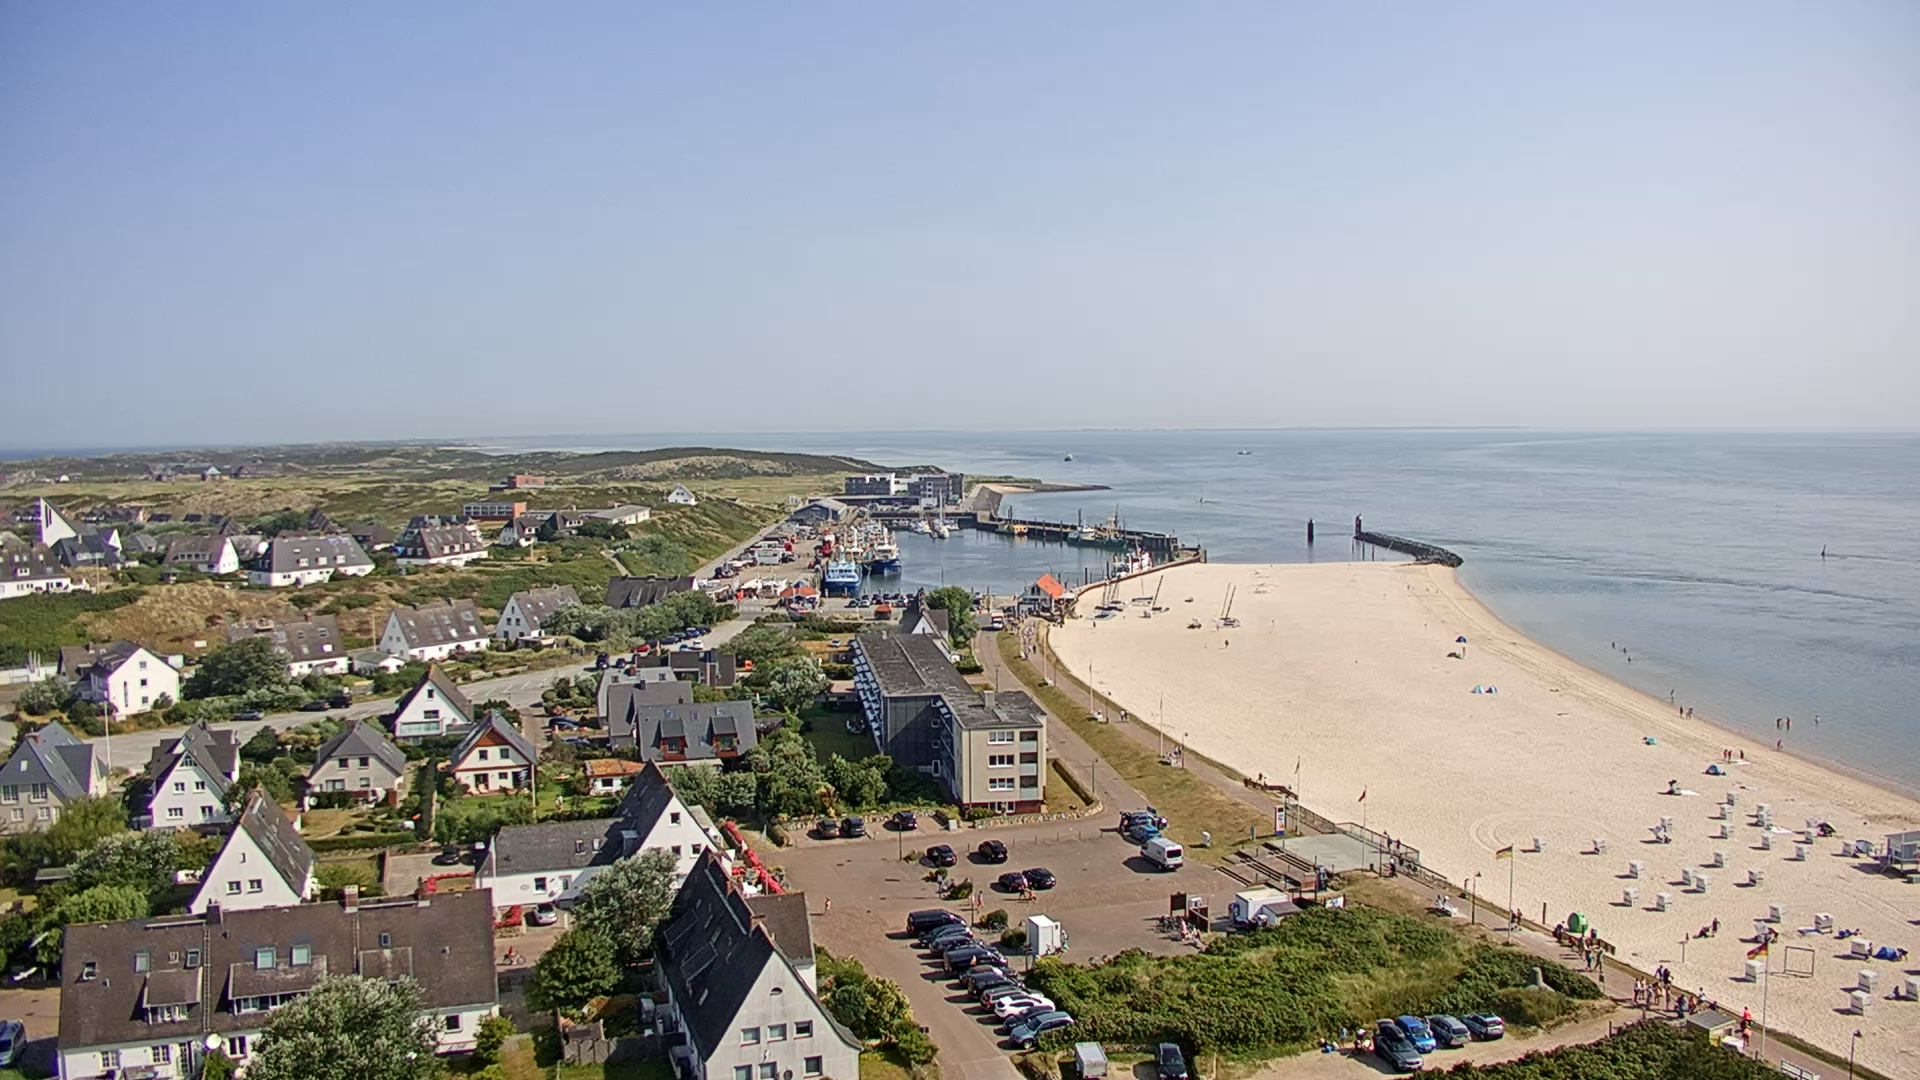human: (1593, 947, 1605, 973), (1582, 947, 1594, 972), (1652, 980, 1663, 1005), (1555, 918, 1565, 942), (1336, 1024, 1347, 1048), (1178, 917, 1188, 940), (1765, 924, 1779, 942), (1709, 914, 1720, 936), (1632, 975, 1641, 1003), (1639, 975, 1647, 1001), (1742, 1005, 1753, 1025), (1060, 928, 1069, 951), (1646, 983, 1654, 1007), (1665, 986, 1673, 1011), (1676, 993, 1687, 1012), (1697, 984, 1706, 1003), (1661, 967, 1672, 984), (1654, 963, 1664, 980), (1388, 855, 1396, 876), (1687, 991, 1695, 1013), (1663, 966, 1672, 984), (824, 896, 832, 914), (1708, 999, 1720, 1011), (977, 890, 984, 910), (1510, 907, 1518, 923), (1018, 883, 1026, 898), (1442, 897, 1450, 911), (1685, 706, 1693, 720), (1516, 907, 1523, 924), (1386, 835, 1392, 851), (1776, 715, 1783, 729), (1669, 687, 1676, 701), (1167, 916, 1174, 930), (1436, 894, 1443, 907), (1776, 739, 1783, 751), (1813, 715, 1821, 725), (1722, 747, 1728, 761), (1786, 716, 1791, 731), (1395, 837, 1401, 850), (1739, 748, 1745, 761), (1092, 620, 1097, 631), (1120, 708, 1125, 720), (1174, 744, 1179, 755), (1178, 744, 1183, 755), (1124, 708, 1129, 720), (1727, 749, 1733, 761), (1679, 705, 1684, 717), (1258, 772, 1263, 782), (1223, 641, 1230, 648), (1626, 655, 1632, 663), (1622, 646, 1627, 655), (1033, 644, 1037, 654), (1611, 641, 1616, 648), (1406, 584, 1410, 590)
land: (1369, 1015, 1422, 1071), (1008, 1010, 1074, 1048), (977, 983, 1045, 1010), (904, 907, 965, 937), (942, 948, 1009, 975), (929, 934, 1000, 957), (994, 994, 1056, 1020), (1424, 1013, 1471, 1047), (1139, 835, 1184, 870), (1392, 1015, 1435, 1052), (965, 972, 1021, 999), (1001, 1003, 1055, 1030), (1153, 1041, 1190, 1079), (1458, 1011, 1506, 1041), (918, 923, 973, 947), (1, 1018, 27, 1068), (956, 962, 1018, 982), (1118, 807, 1167, 829), (1021, 866, 1056, 889), (531, 901, 559, 927), (978, 838, 1008, 863), (927, 843, 958, 866), (1126, 821, 1160, 841), (996, 870, 1026, 891), (840, 815, 866, 836), (891, 809, 917, 829), (641, 994, 656, 1024), (816, 819, 840, 837), (233, 707, 262, 721), (324, 692, 352, 707), (300, 698, 329, 711), (440, 846, 460, 865), (989, 609, 1005, 630), (502, 952, 527, 965), (552, 720, 578, 732), (548, 717, 579, 727), (596, 650, 610, 668), (628, 642, 652, 653), (658, 634, 681, 645), (686, 627, 700, 637), (690, 638, 702, 650), (614, 657, 627, 668), (691, 641, 704, 650), (673, 632, 686, 640), (859, 600, 869, 607), (897, 599, 905, 606), (849, 600, 857, 608), (870, 597, 878, 604), (884, 600, 891, 606), (877, 599, 884, 605), (893, 592, 901, 598), (906, 592, 914, 598), (861, 593, 869, 599), (883, 593, 890, 599)
sea: (1066, 504, 1128, 548), (1108, 534, 1153, 579), (822, 554, 862, 592), (870, 526, 901, 574), (1212, 581, 1240, 626), (1143, 571, 1171, 616), (994, 504, 1029, 536), (934, 487, 950, 539), (909, 498, 930, 534), (1106, 571, 1126, 607), (1094, 575, 1114, 611), (940, 517, 960, 531), (1062, 451, 1073, 461), (1237, 449, 1252, 455)
